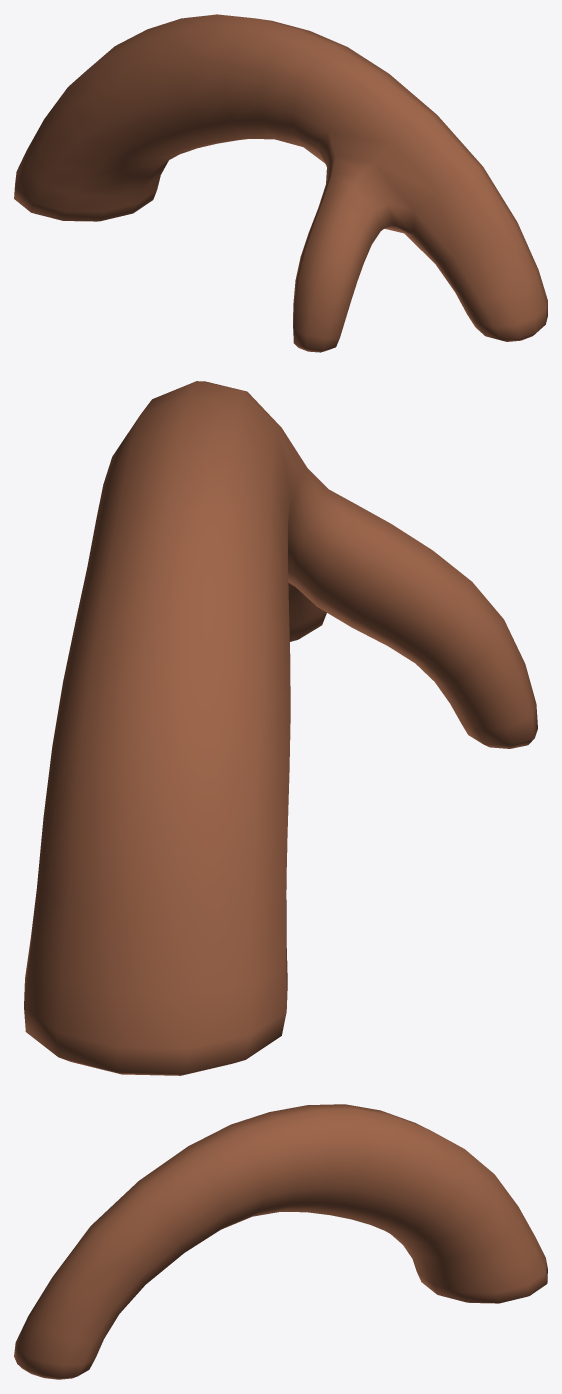
The picture shows the model from 3 angles, top to bottom: view 1: azimuth 30°, elevation 25°; view 2: azimuth 150°, elevation 25°; view 3: azimuth 270°, elevation 25°; orthographic projection. The views are drawn at different scales.
Parts seen in each view (by area): view 1: Root_02_LOD0; view 2: Root_02_LOD0; view 3: Root_02_LOD0.
Boxes of the visible parts, x1,y1,x2,y2 form: Root_02_LOD0: [14, 14, 547, 352]; Root_02_LOD0: [24, 381, 537, 1075]; Root_02_LOD0: [14, 1104, 547, 1379].
Size of what is drawn, in the model's own units: 332 by 251 by 584.
